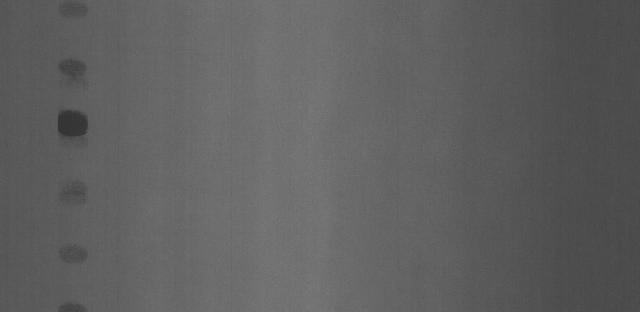oil_spot: (50, 108, 99, 140), (45, 0, 97, 29), (48, 237, 96, 268), (54, 46, 94, 79), (55, 177, 91, 207), (49, 291, 87, 312)
